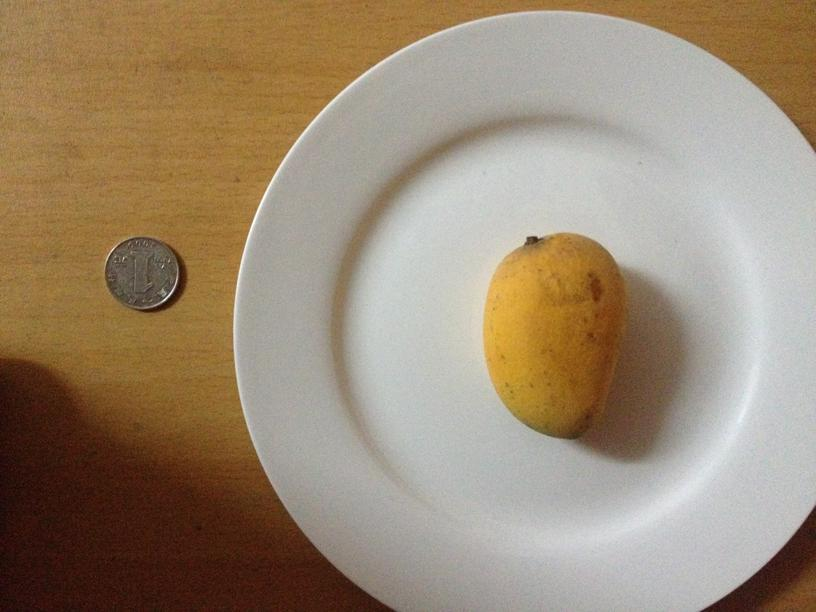coin: (481, 228, 623, 438)
mango: (481, 228, 623, 438)
